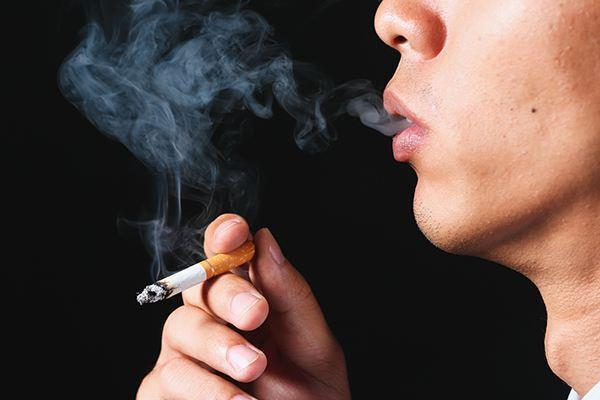smoke: (136, 240, 257, 306)
